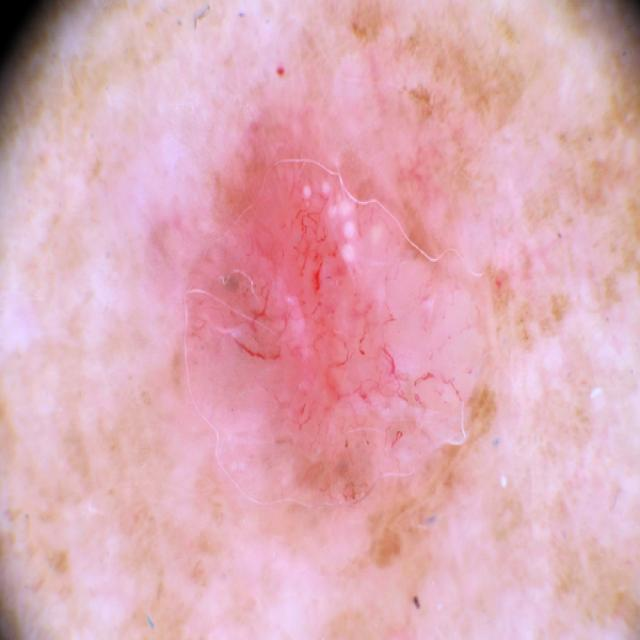Skin-Cancer Basal cell carcinoma: (54, 12, 582, 598)
